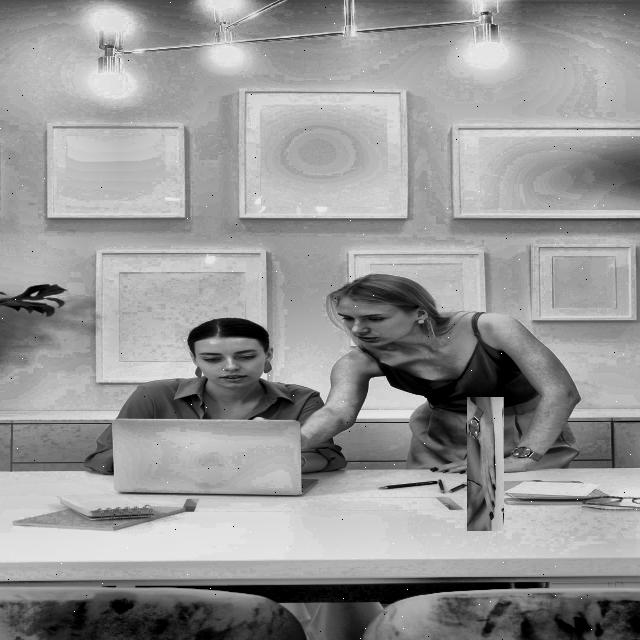not-gloved: (442, 421, 528, 506)
